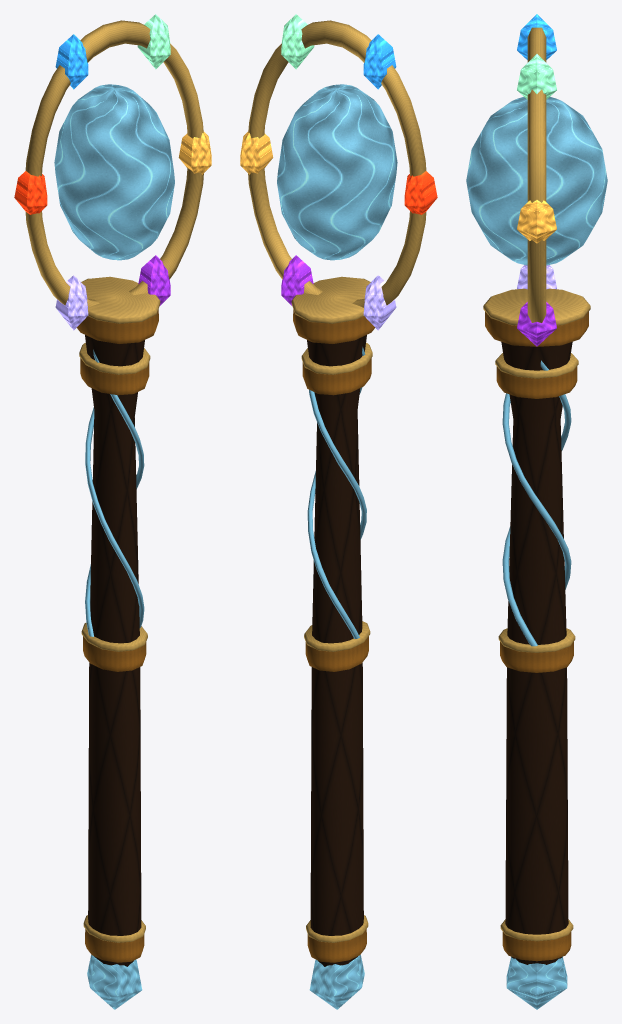
The model's file is elemental_wand.glb.
The picture shows the model from 3 angles, left to right: view 1: azimuth 30°, elevation 25°; view 2: azimuth 150°, elevation 25°; view 3: azimuth 270°, elevation 25°; orthographic projection.
Parts seen in each view (by area): view 1: Leather wrapped grip, Prismatic elemental focus, Six-mode focus halo, Elemental mode inset (×6), Engraved metal collar (×4), Polished collar edge (×4), Spiral elemental shaft inlay (×2), Inset elemental pommel; view 2: Leather wrapped grip, Prismatic elemental focus, Six-mode focus halo, Elemental mode inset (×6), Engraved metal collar (×4), Polished collar edge (×4), Spiral elemental shaft inlay (×2), Inset elemental pommel; view 3: Leather wrapped grip, Prismatic elemental focus, Engraved metal collar (×4), Elemental mode inset (×5), Polished collar edge (×4), Six-mode focus halo, Spiral elemental shaft inlay (×2), Inset elemental pommel.
Boxes of the visible parts, bbox=[...] form: Leather wrapped grip: bbox=[85, 335, 144, 966]; Prismatic elemental focus: bbox=[54, 84, 174, 260]; Six-mode focus halo: bbox=[25, 20, 203, 307]; Elemental mode inset (×6): bbox=[14, 14, 211, 330]; Engraved metal collar (×4): bbox=[76, 309, 158, 962]; Polished collar edge (×4): bbox=[79, 276, 160, 942]; Spiral elemental shaft inlay (×2): bbox=[85, 349, 144, 636]; Inset elemental pommel: bbox=[87, 955, 142, 1009]; Leather wrapped grip: bbox=[307, 335, 366, 966]; Prismatic elemental focus: bbox=[277, 84, 397, 260]; Six-mode focus halo: bbox=[248, 20, 426, 307]; Elemental mode inset (×6): bbox=[240, 14, 437, 330]; Engraved metal collar (×4): bbox=[293, 309, 375, 962]; Polished collar edge (×4): bbox=[291, 276, 372, 942]; Spiral elemental shaft inlay (×2): bbox=[307, 347, 366, 638]; Inset elemental pommel: bbox=[309, 955, 364, 1009]; Leather wrapped grip: bbox=[501, 342, 572, 964]; Prismatic elemental focus: bbox=[466, 97, 607, 265]; Engraved metal collar (×4): bbox=[485, 311, 588, 961]; Elemental mode inset (×5): bbox=[517, 14, 556, 346]; Polished collar edge (×4): bbox=[483, 288, 590, 941]; Six-mode focus halo: bbox=[527, 27, 546, 322]; Spiral elemental shaft inlay (×2): bbox=[502, 360, 571, 646]; Inset elemental pommel: bbox=[506, 956, 567, 1009].
Size of the model in its own units: 71 by 350 by 46.
Materials: 11 (11 with a texture image).
